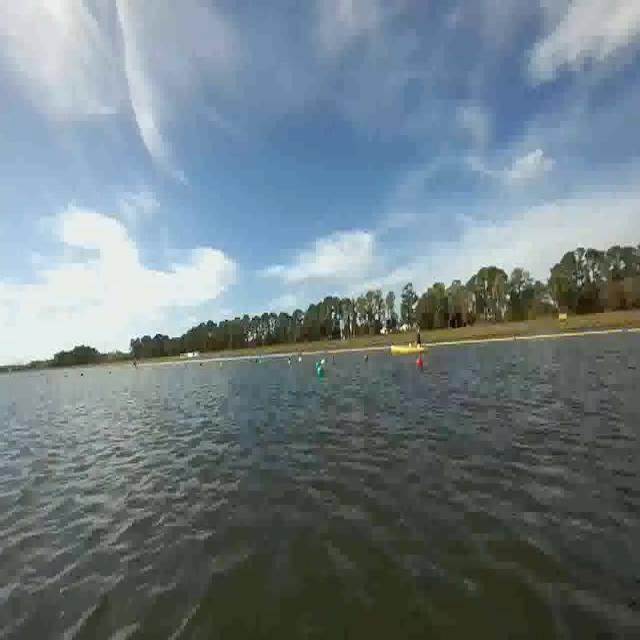green-buoy: (317, 362, 326, 376)
red-buoy: (416, 358, 423, 366)
